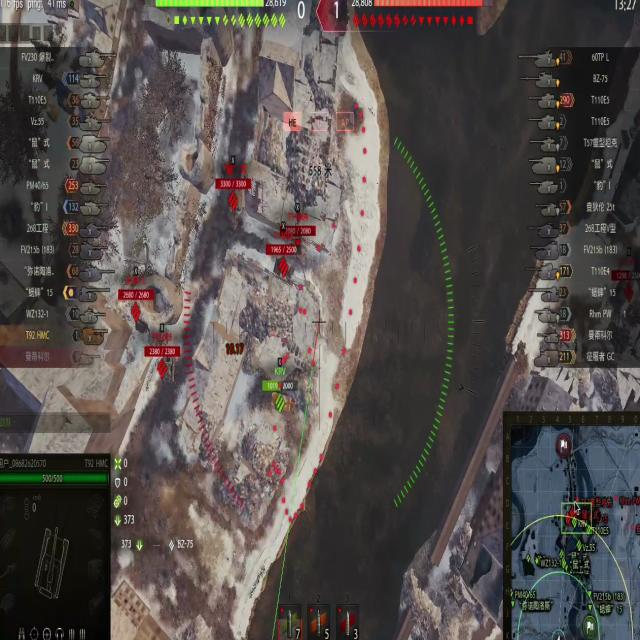tank: (214, 174, 248, 231), (119, 288, 153, 336), (146, 346, 180, 386), (266, 242, 302, 277)
